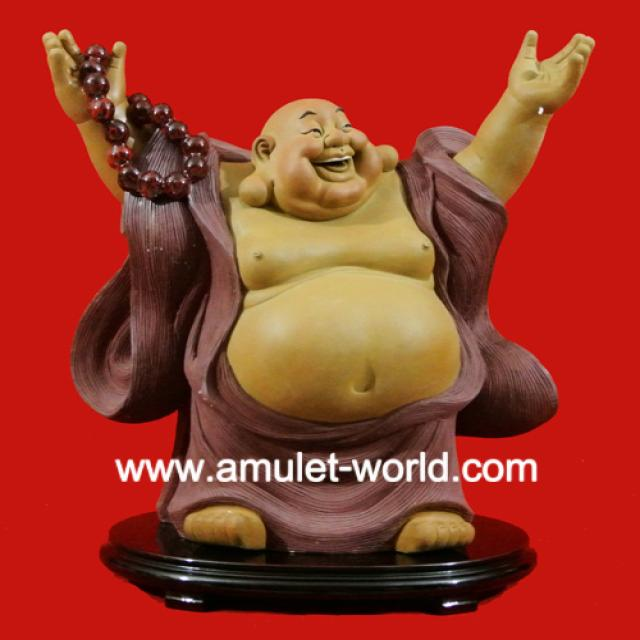Smiling Buddha: (144, 95, 491, 426)
